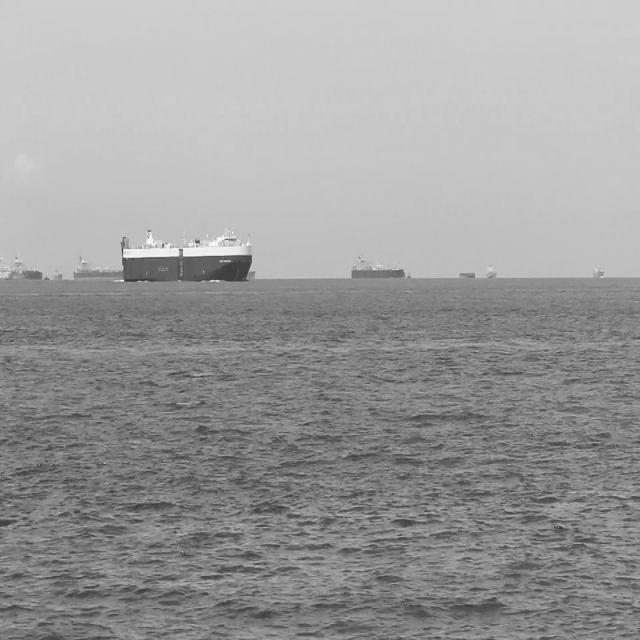ship: (120, 233, 251, 283), (349, 252, 406, 282), (8, 251, 44, 287), (72, 256, 128, 278), (0, 257, 15, 285), (483, 262, 499, 284), (242, 267, 260, 285), (592, 261, 607, 282), (458, 269, 477, 283), (54, 264, 66, 286), (43, 268, 52, 287), (403, 272, 414, 282)
